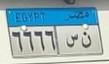6: (21, 28, 34, 54), (11, 26, 23, 54), (47, 28, 56, 55), (35, 27, 43, 50)
س: (65, 31, 79, 53)
ن: (80, 30, 94, 51)
